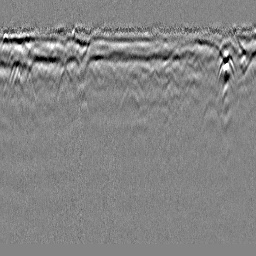cavity: (117, 84, 141, 114)
